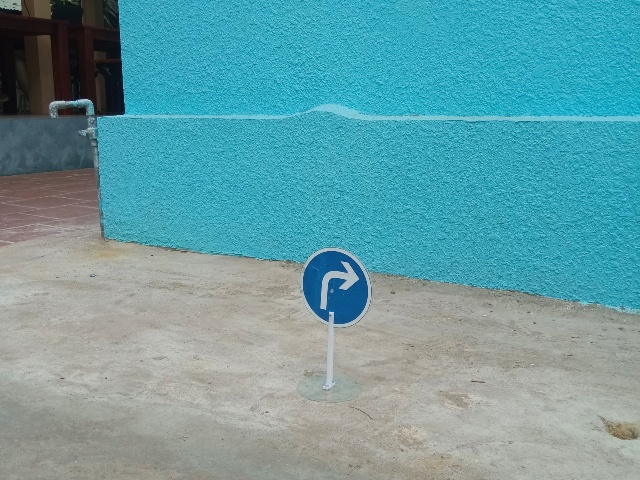Right_Sign: (300, 247, 372, 328)
